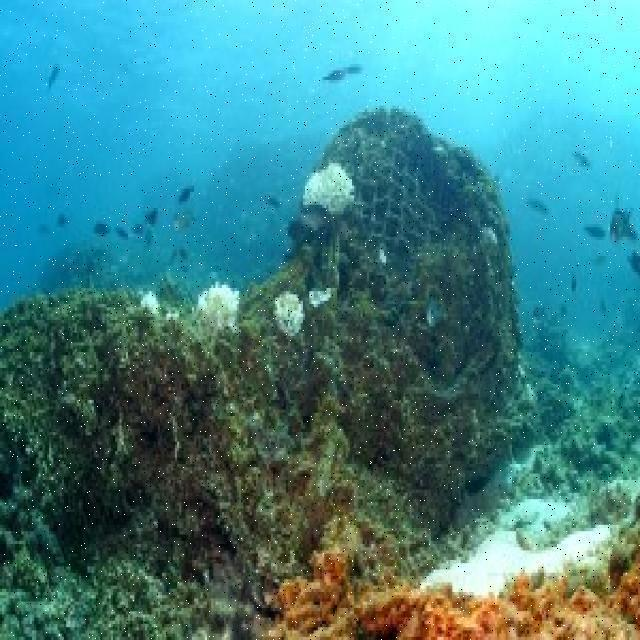Bleached: (183, 282, 240, 361), (304, 163, 357, 219), (273, 289, 304, 342), (308, 287, 336, 310), (481, 224, 499, 252), (142, 294, 161, 318), (523, 379, 540, 405), (515, 355, 529, 378), (379, 248, 392, 265)
Healthy: (1, 361, 357, 640), (359, 139, 507, 511)
